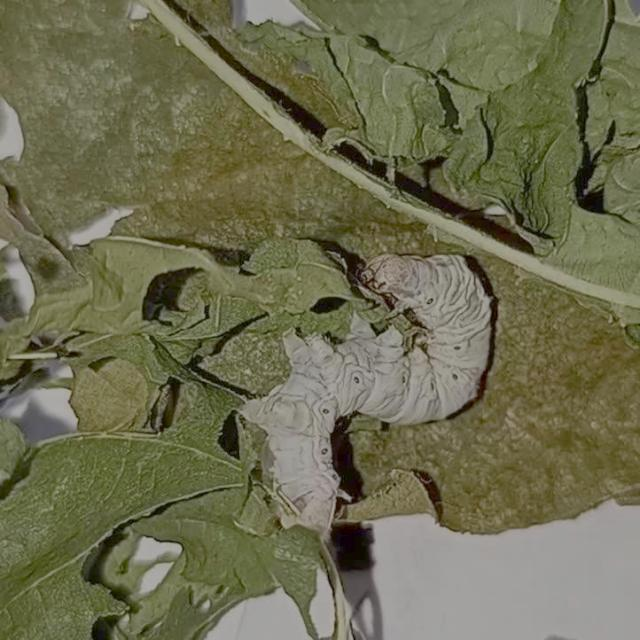Healthy: (234, 213, 508, 535)
